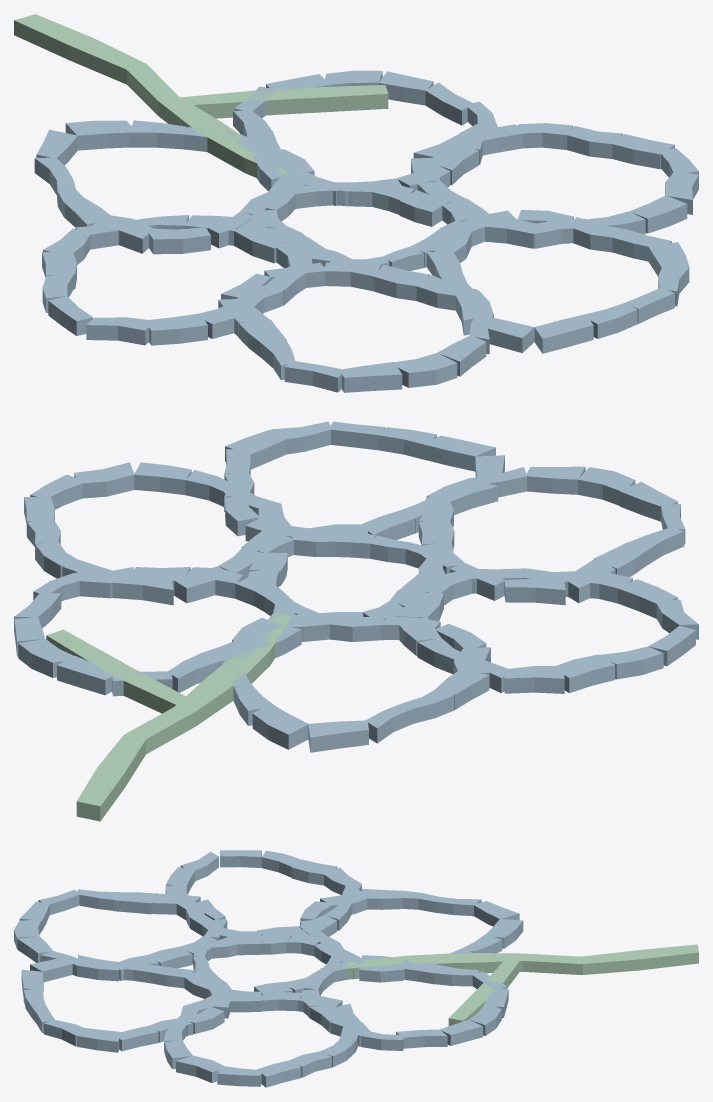
The model's file is env_chalk_bulaklak.obj.
The picture shows the model from 3 angles, top to bottom: view 1: azimuth 30°, elevation 25°; view 2: azimuth 150°, elevation 25°; view 3: azimuth 270°, elevation 25°; orthographic projection. The views are drawn at different scales.
Parts seen in each view (by area): view 1: ChalkBulaklak; view 2: ChalkBulaklak; view 3: ChalkBulaklak.
Part boxes in pixels (left/top/right/bottom): ChalkBulaklak: left=14, top=14, right=698, bottom=392; ChalkBulaklak: left=14, top=421, right=698, bottom=821; ChalkBulaklak: left=14, top=850, right=698, bottom=1087.
Size of the model in its own units: 0.8825 by 0.02 by 1.13.
